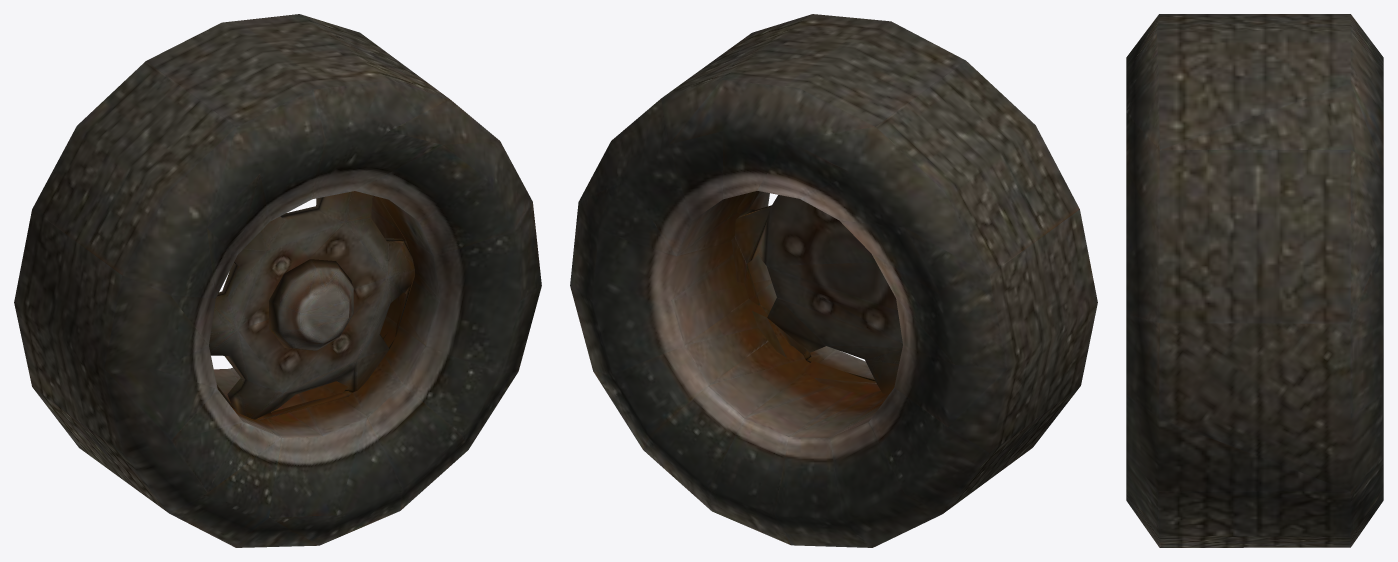
Rendered from car_s_wheel.glb.
3 views of the same model, side by side, from view 1: azimuth 30°, elevation 25°; view 2: azimuth 150°, elevation 25°; view 3: azimuth 270°, elevation 25° (orthographic). The views are drawn at different scales.
Parts seen in each view (by area): view 1: geometry_0; view 2: geometry_0; view 3: geometry_0.
Part boxes in pixels (x1,y1,x2,y2): geometry_0: (14,14,541,547); geometry_0: (570,14,1097,547); geometry_0: (1126,14,1383,547).
Size of the model in its own units: 0.582 by 0.583 by 0.2798.
1 material, 1 textured.
